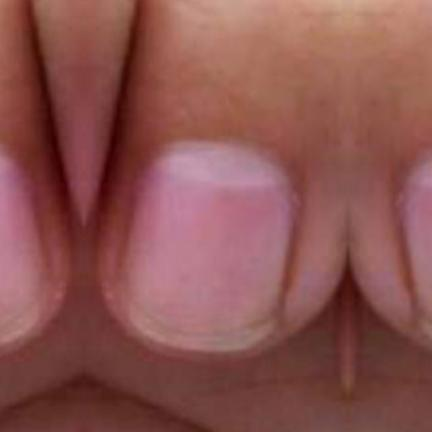Nail: (125, 139, 293, 352), (0, 143, 41, 346), (403, 149, 432, 342)
